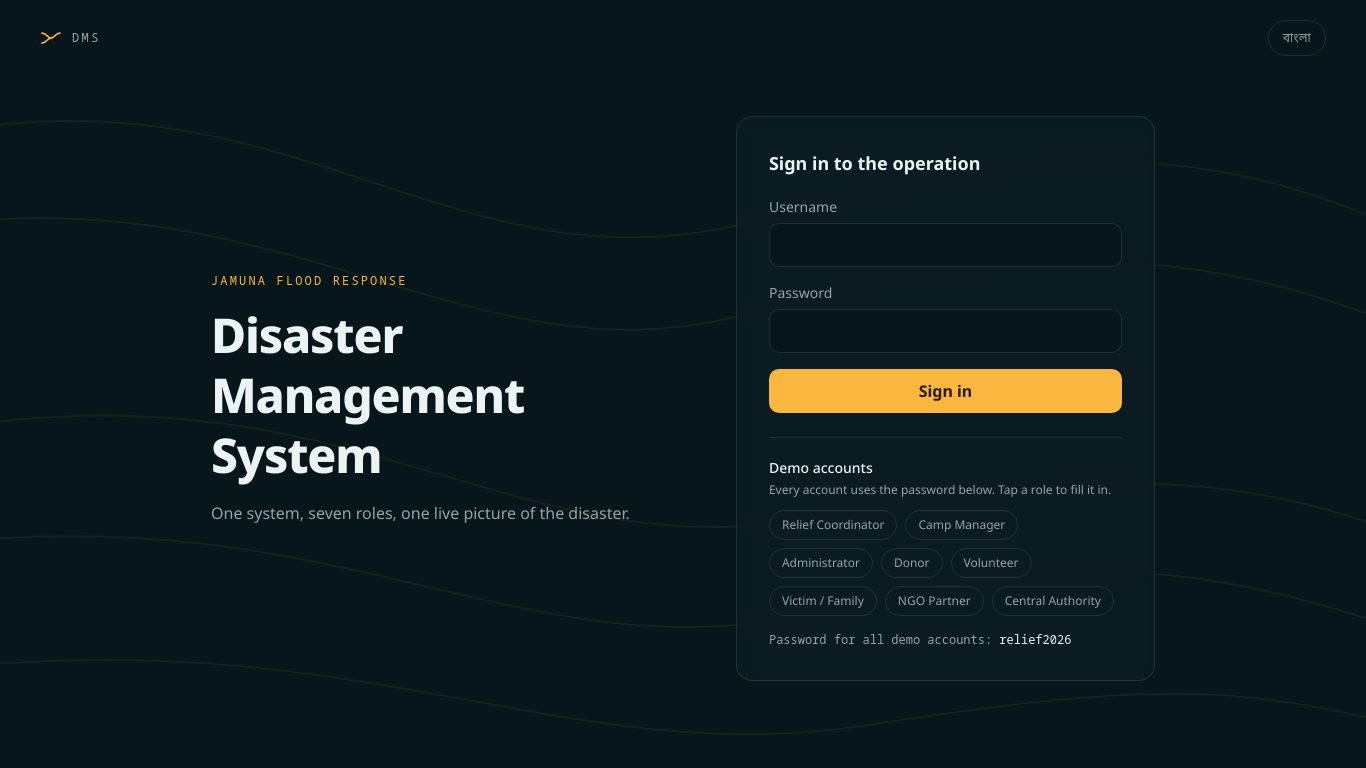
Test: the language toggle switches every string to বাংলা and persists the choice
This screenshot has width=1366, height=768.
Click the button named "Switch language to বাংলা" at (1297,38), box left=1268, top=20, right=1326, bottom=56
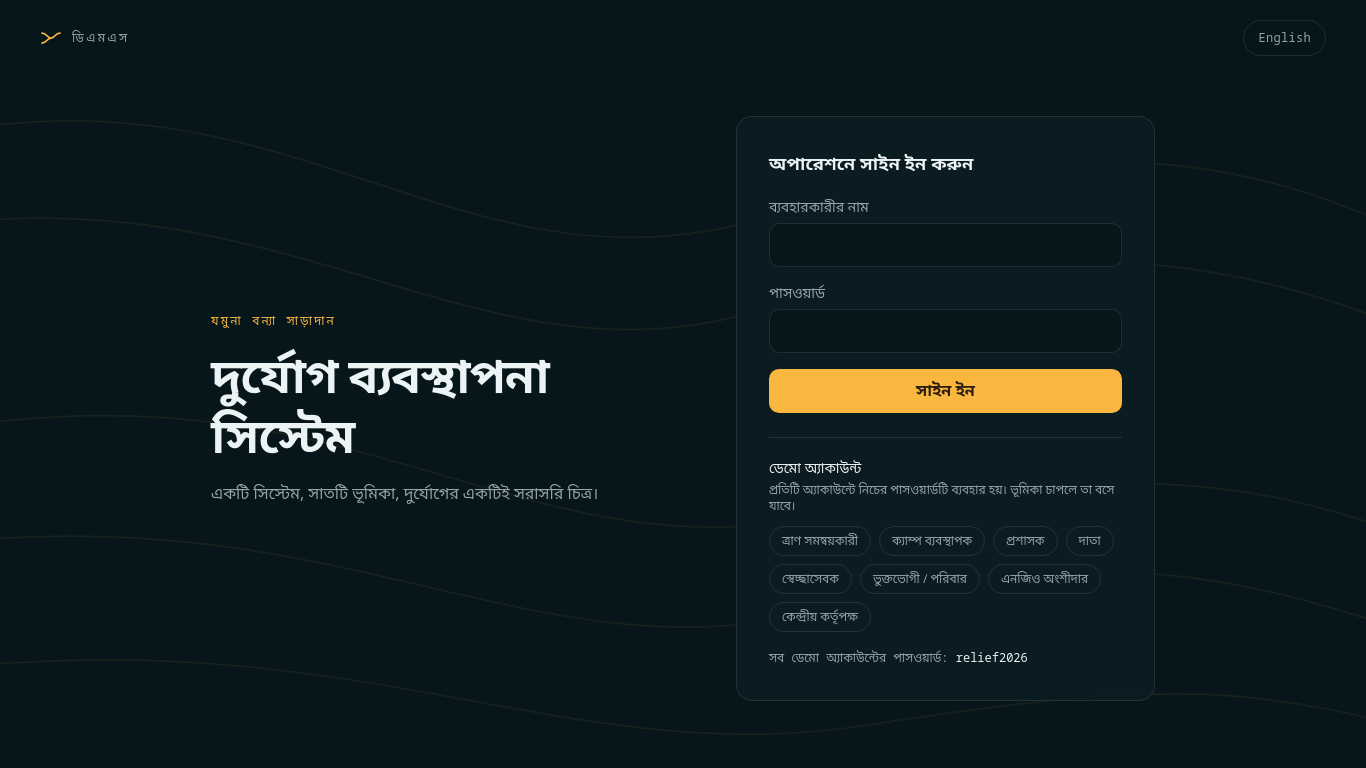
Expected: the heading "দুর্যোগ ব্যবস্থাপনা সিস্টেম" is shown, left=211, top=342, right=549, bottom=467
Expected: the heading "Sign in to the operation" is gone
